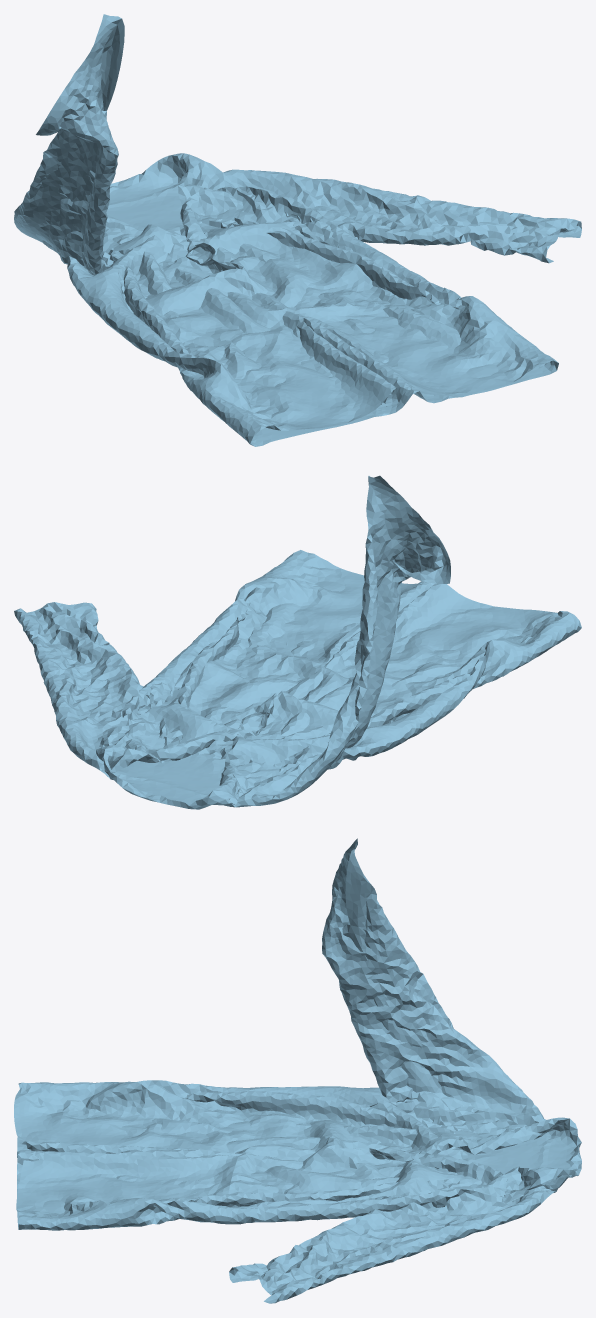
File: frame_10.glb
3 renders of one model, top to bottom at view 1: azimuth 30°, elevation 25°; view 2: azimuth 150°, elevation 25°; view 3: azimuth 270°, elevation 25°, orthographic. The views are drawn at different scales.
Parts seen in each view (by area): view 1: frame_10.obj; view 2: frame_10.obj; view 3: frame_10.obj.
Boxes of the visible parts, x1=… form: frame_10.obj: x1=14, y1=14, x2=581, y2=446; frame_10.obj: x1=14, y1=475, x2=581, y2=809; frame_10.obj: x1=14, y1=838, x2=581, y2=1303.
Size of the model in its own units: 1.61 by 0.89 by 1.68.
